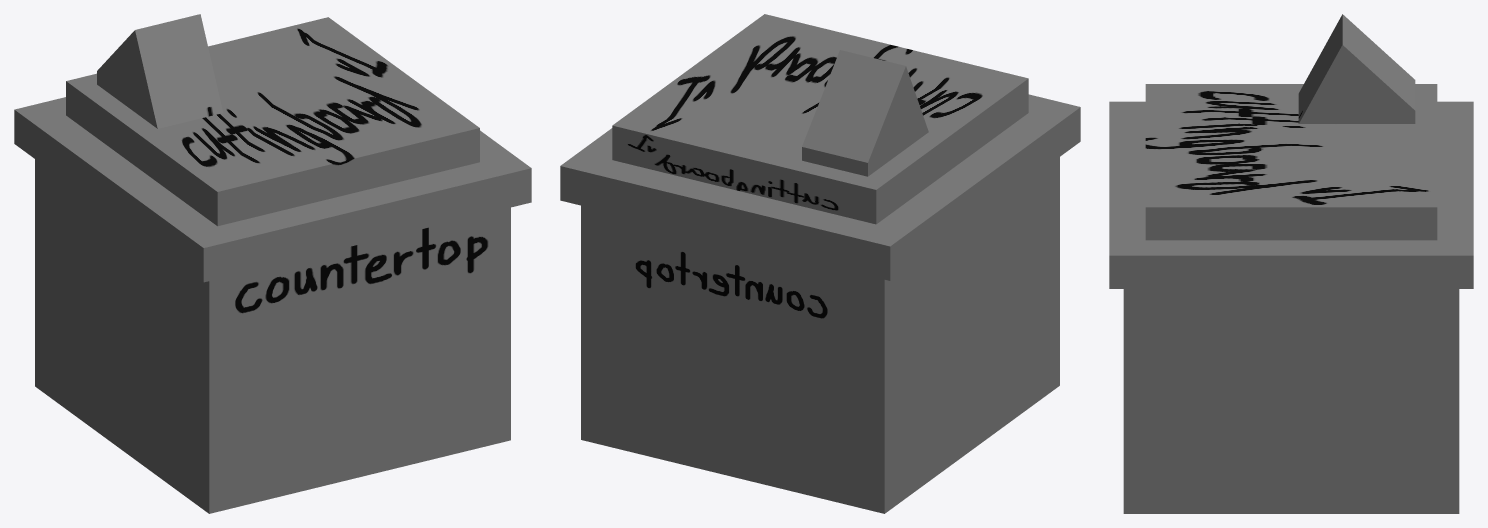
The model's file is furni_cutting_board_0.glb.
3 renders of one model, left to right at view 1: azimuth 30°, elevation 25°; view 2: azimuth 150°, elevation 25°; view 3: azimuth 270°, elevation 25°, orthographic. The views are drawn at different scales.
Parts seen in each view (by area): view 1: counter, cutting_board; view 2: counter, cutting_board; view 3: counter, cutting_board.
Boxes of the visible parts, x1,y1,x2,y2 form: counter: (14, 97, 531, 513); cutting_board: (66, 14, 479, 226); counter: (560, 94, 1080, 513); cutting_board: (612, 14, 1028, 224); counter: (1109, 101, 1473, 513); cutting_board: (1145, 14, 1437, 240).
Size of the model in its own units: 1 by 1.14 by 1.
2 materials, 2 textured.
